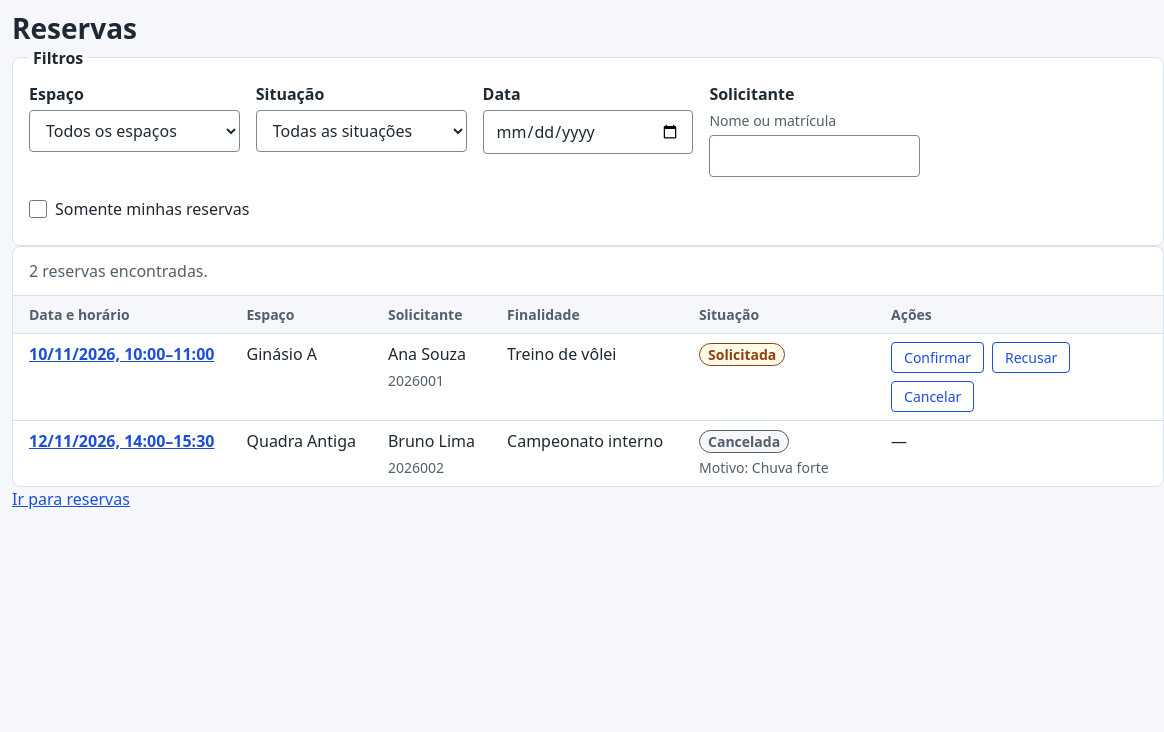
Test: PaginaReservas › o filtro de espaço grava na URL e consulta com ele
Select "Quadra Antiga (inativo)" in the dropdown labelled "Espaço" at (134, 131), box [29, 110, 240, 152]
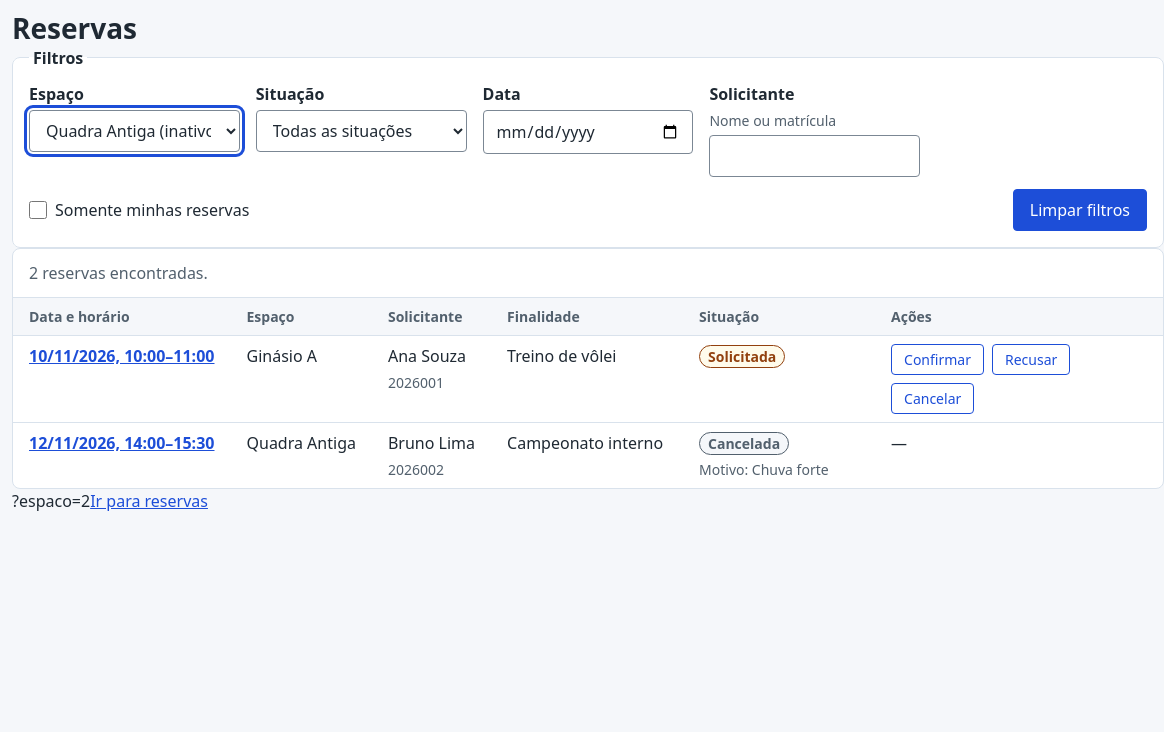
Now the text with test id "busca" reads "?espaco=2", box [12, 490, 90, 512]
